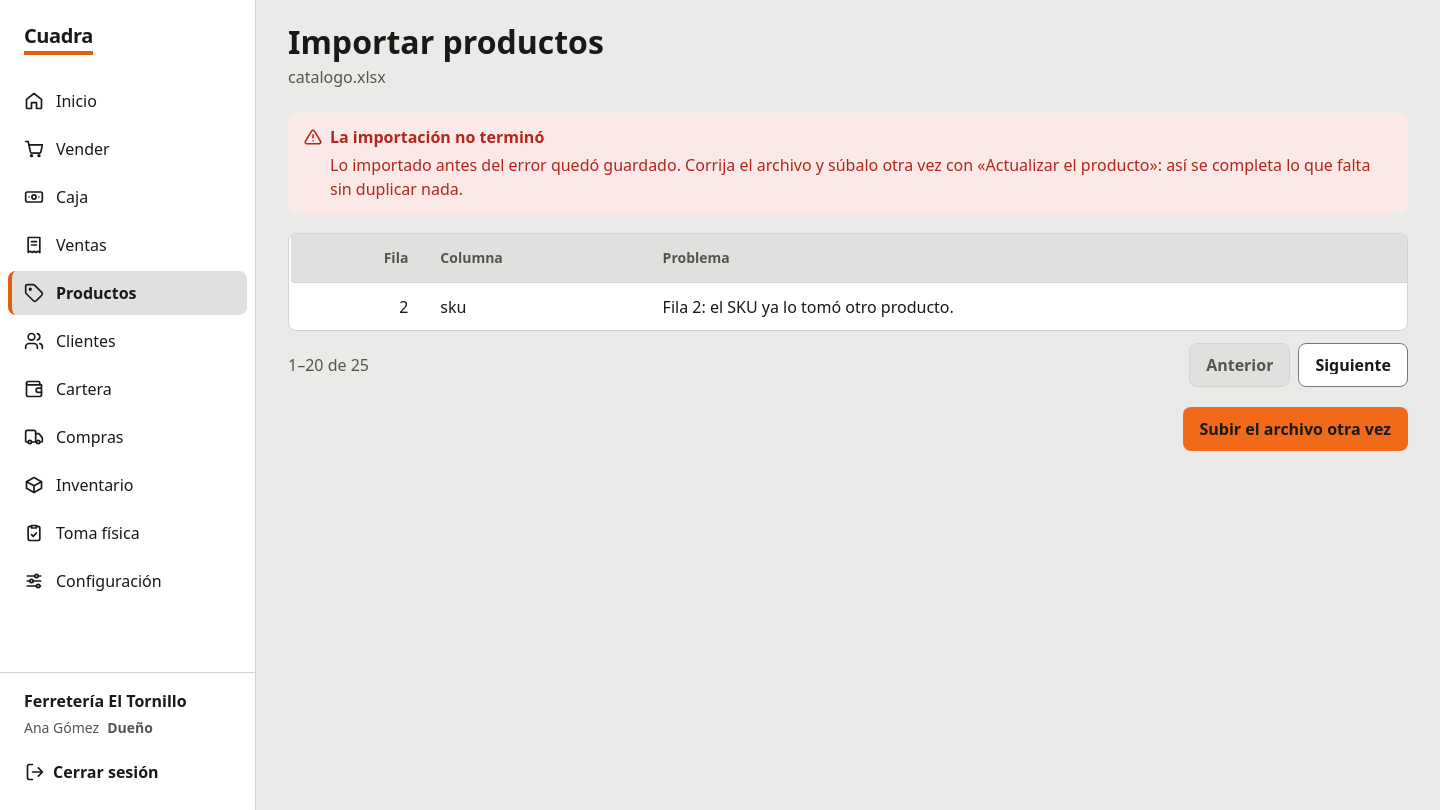
it: ImportStatusPage › una importación fallida muestra su error y todos los errores paginados
The image size is (1440, 810).
Expected: the message shows "La importación no terminó", x1=330 y1=126 x2=544 y2=148
Expected: the text "Fila 2: el SKU ya lo tomó otro producto." is shown, x1=647 y1=282 x2=1407 y2=330
Step 1. Click the button "Siguiente" → (1353, 365), box x1=1298 y1=343 x2=1408 y2=387
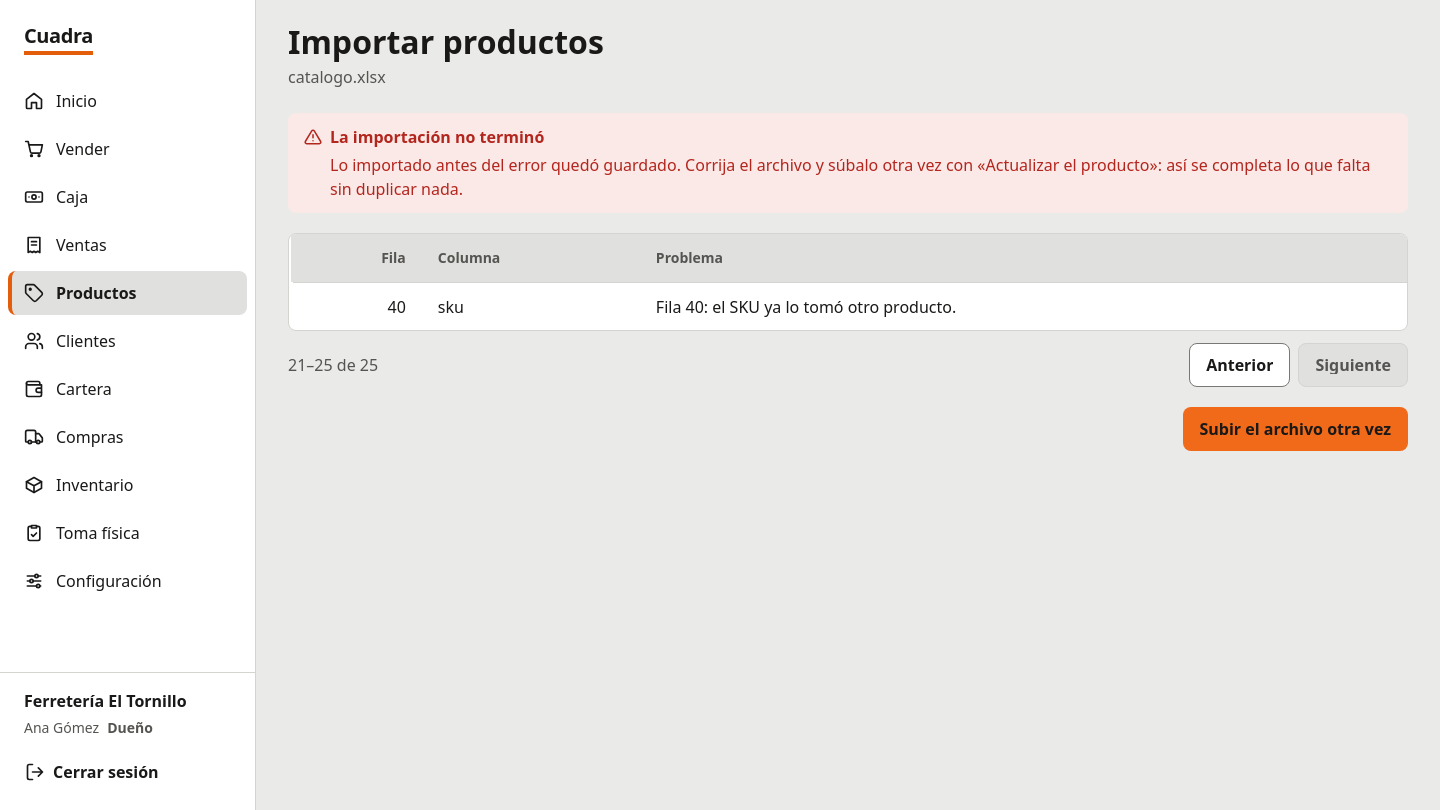
Expected: the text "Fila 40: el SKU ya lo tomó otro producto." is shown, x1=640 y1=282 x2=1407 y2=330
